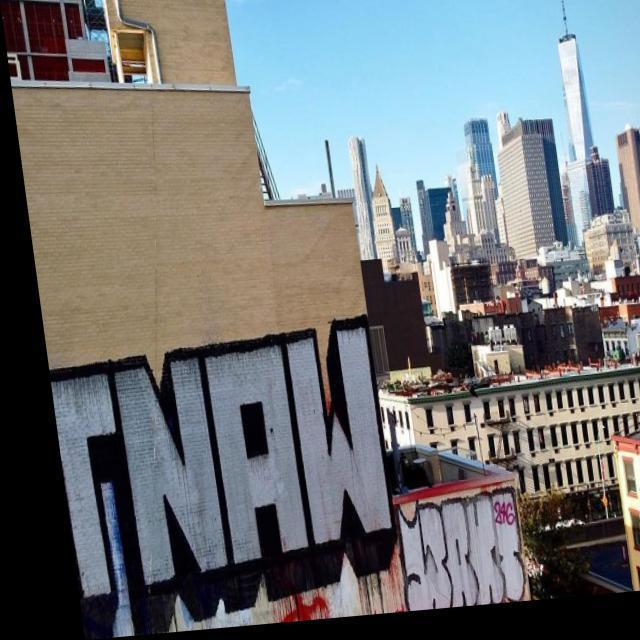-: (36, 320, 387, 640), (382, 500, 510, 617), (624, 461, 640, 526)
